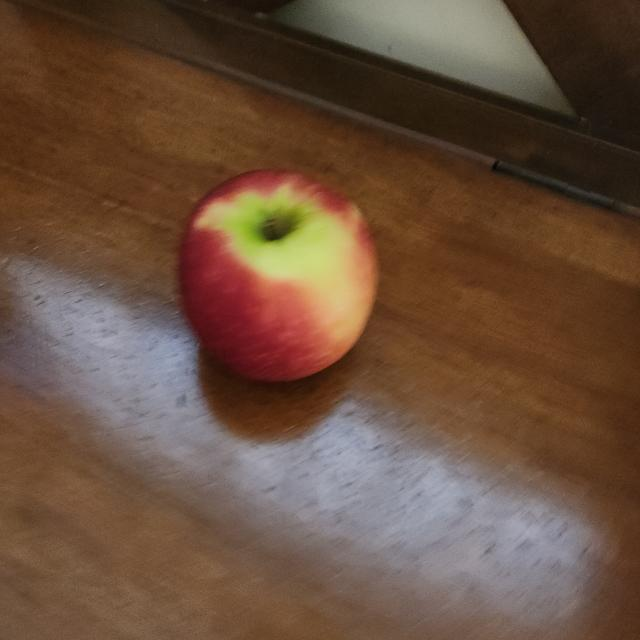apple: (165, 158, 390, 400)
